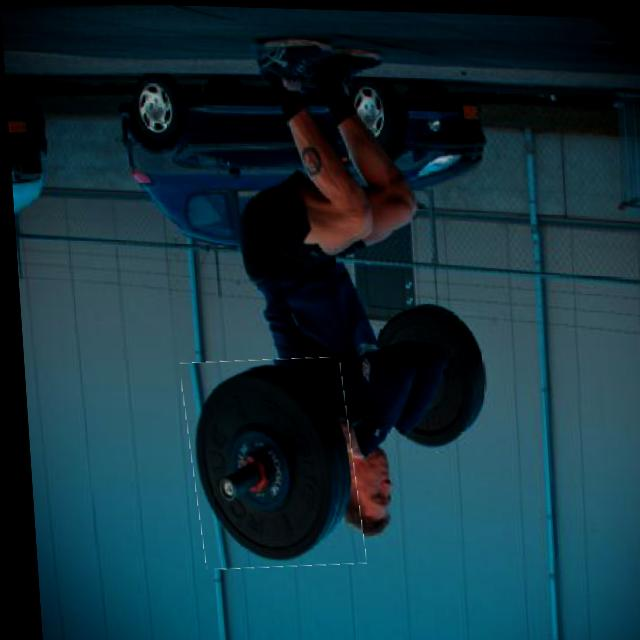barbell: (178, 355, 357, 570)
